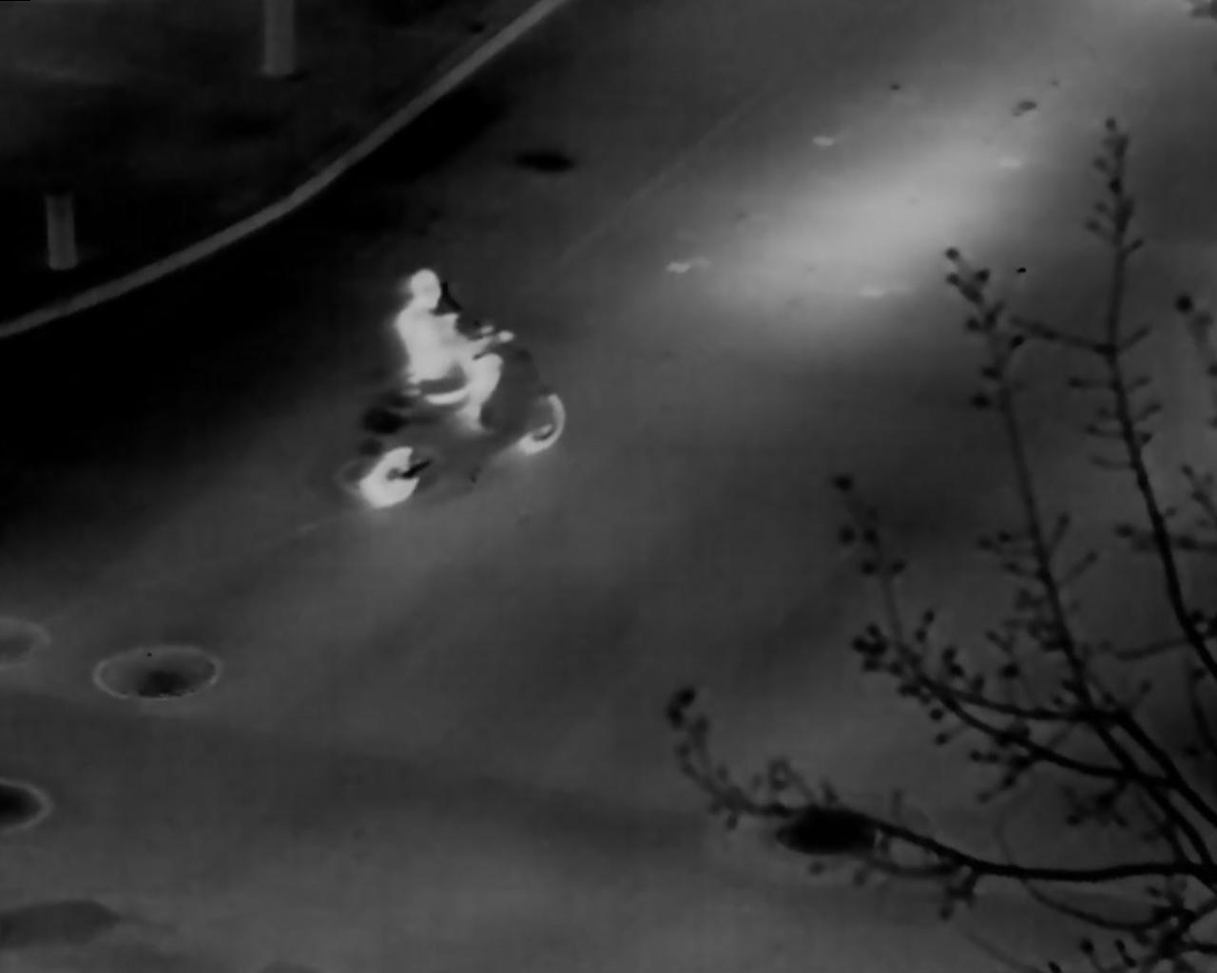person: (391, 266, 515, 439)
